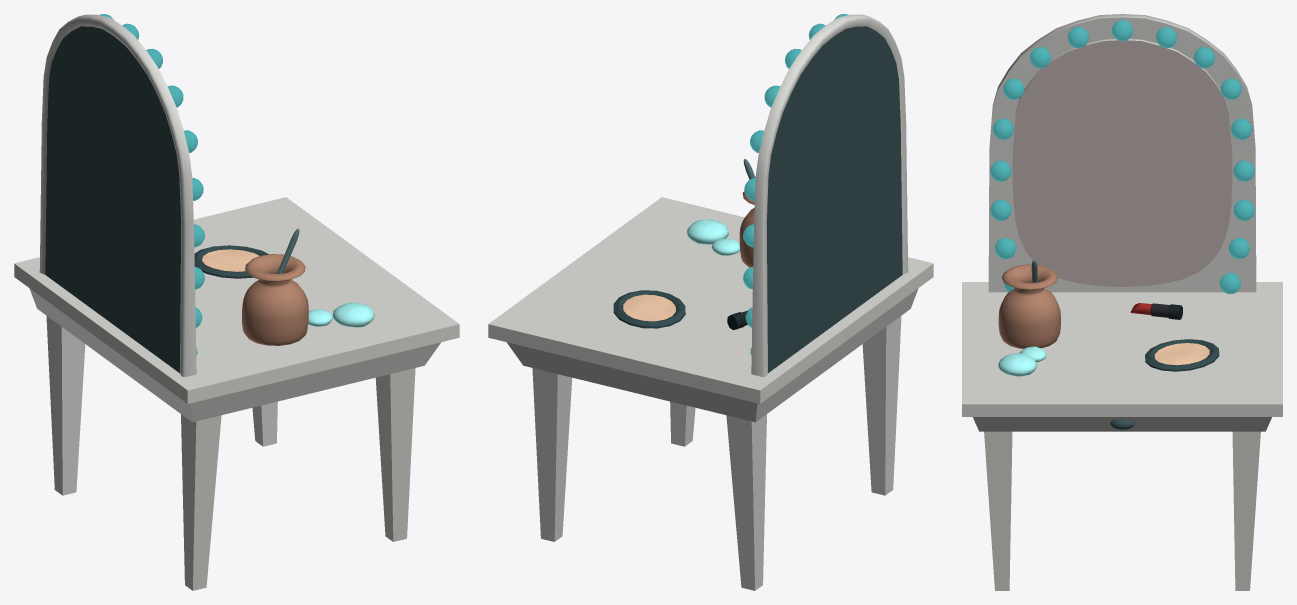
Rendered from OT_004_vanity_table.glb.
The picture shows the model from 3 angles, left to right: view 1: azimuth 30°, elevation 25°; view 2: azimuth 150°, elevation 25°; view 3: azimuth 270°, elevation 25°; orthographic projection. The views are drawn at different scales.
Parts seen in each view (by area): view 1: mirror, table, legs, pot, makeup_powder, mirror_lights, sponge_big; view 2: mirror, table, legs, makeup_powder, mirror_lights, sponge_big, pot; view 3: mirror, table, legs, mirror_lights, pot, makeup_powder, sponge_big, lipstick.
Boxes of the visible parts, box(x1,y1,x2,y2) form: mirror: box(39, 14, 196, 376); table: box(14, 197, 459, 422); legs: box(46, 316, 415, 590); pot: box(242, 254, 308, 345); makeup_powder: box(194, 245, 268, 278); mirror_lights: box(100, 14, 204, 355); sponge_big: box(333, 302, 374, 327); mirror: box(751, 14, 908, 376); table: box(488, 197, 933, 422); legs: box(532, 316, 901, 590); makeup_powder: box(613, 290, 685, 328); mirror_lights: box(743, 14, 847, 355); sponge_big: box(687, 219, 728, 244); pot: box(739, 191, 754, 267); mirror: box(988, 14, 1256, 292); table: box(962, 282, 1282, 431); legs: box(984, 431, 1260, 590); mirror_lights: box(990, 19, 1254, 294); pot: box(998, 264, 1060, 348); makeup_powder: box(1145, 339, 1219, 371); sponge_big: box(998, 353, 1036, 376); lipstick: box(1130, 303, 1182, 319).
Bounding box in the file's own units: 1.34 × 2.43 × 1.48.
